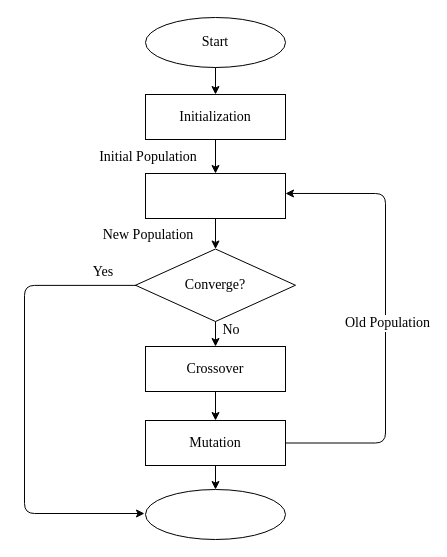
This 447x557 diagram has some shape labels left out. The shapes that lost their labels are listed below. From the top down, each one's centre as x and y in pixels, then its label:
At (215,195): "Selection".
At (215,514): "End".
